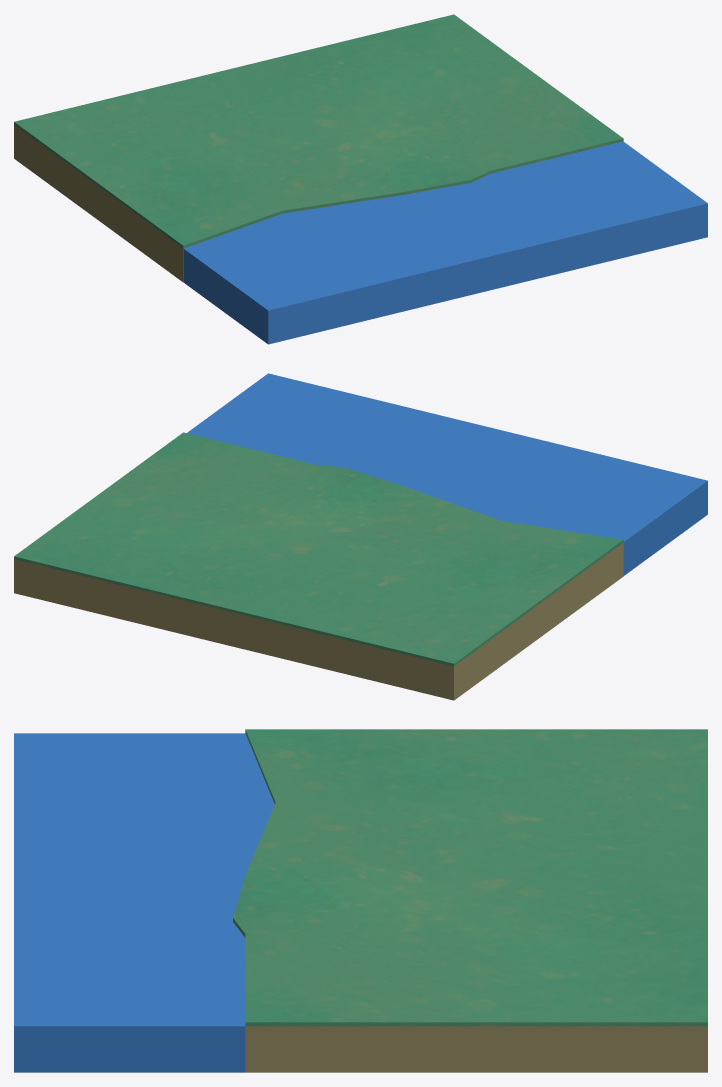
The model's file is outpost_level.fbx.
3 views of the same model, one above another, from view 1: azimuth 30°, elevation 25°; view 2: azimuth 150°, elevation 25°; view 3: azimuth 270°, elevation 25° (orthographic). The views are drawn at different scales.
Visible parts, largest first — view 1: shore, sea; view 2: shore, sea; view 3: shore, sea.
Boxes of the visible parts, x1=… form: shore: x1=14, y1=14, x2=623, y2=282; sea: x1=183, y1=141, x2=707, y2=344; shore: x1=14, y1=432, x2=623, y2=700; sea: x1=187, y1=373, x2=707, y2=575; shore: x1=233, y1=729, x2=707, y2=1072; sea: x1=14, y1=733, x2=274, y2=1072.
Size of what is drawn, in the model's own units: 50 by 50 by 4.
